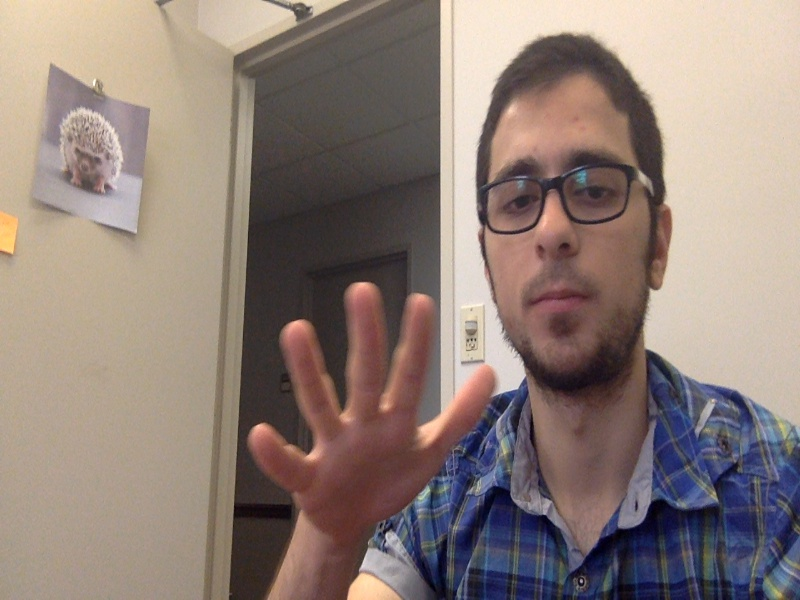5-hand: (244, 281, 492, 544)
